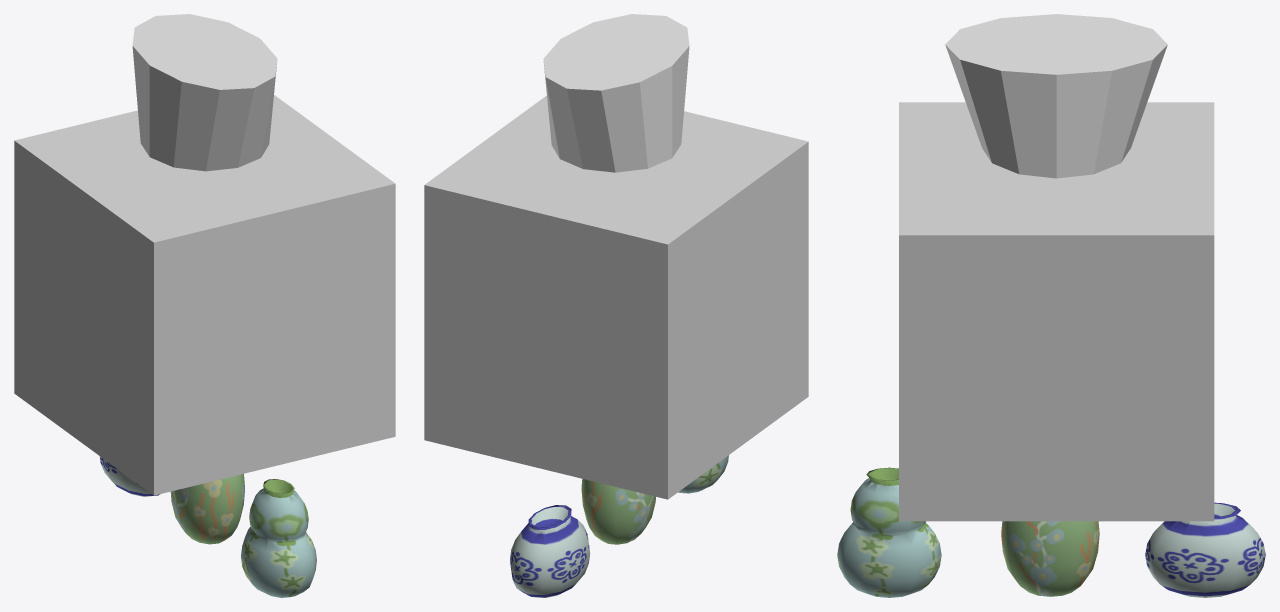
File: Vases.fbx
3 renders of one model, left to right at view 1: azimuth 30°, elevation 25°; view 2: azimuth 150°, elevation 25°; view 3: azimuth 270°, elevation 25°, orthographic. The views are drawn at different scales.
Visible parts, largest first — view 1: Cube, Cylinder, Hourglass Vase, Big Vase, Small Vase; view 2: Cube, Cylinder, Small Vase, Big Vase, Hourglass Vase; view 3: Cube, Cylinder, Hourglass Vase, Small Vase, Big Vase.
Part boxes in pixels (x1,y1,x2,y2): Cube: (14, 95, 395, 495); Cylinder: (132, 14, 277, 171); Hourglass Vase: (241, 479, 316, 597); Big Vase: (170, 474, 244, 544); Small Vase: (99, 456, 159, 496); Cube: (424, 95, 808, 499); Cylinder: (543, 14, 689, 172); Small Vase: (510, 505, 590, 597); Big Vase: (581, 479, 655, 544); Hourglass Vase: (678, 455, 728, 493); Cube: (899, 102, 1214, 521); Cylinder: (945, 14, 1167, 178); Hourglass Vase: (837, 467, 941, 597); Small Vase: (1145, 502, 1265, 597); Big Vase: (1001, 521, 1099, 596).
Bounding box in the file's own units: 100 × 192 × 136.
